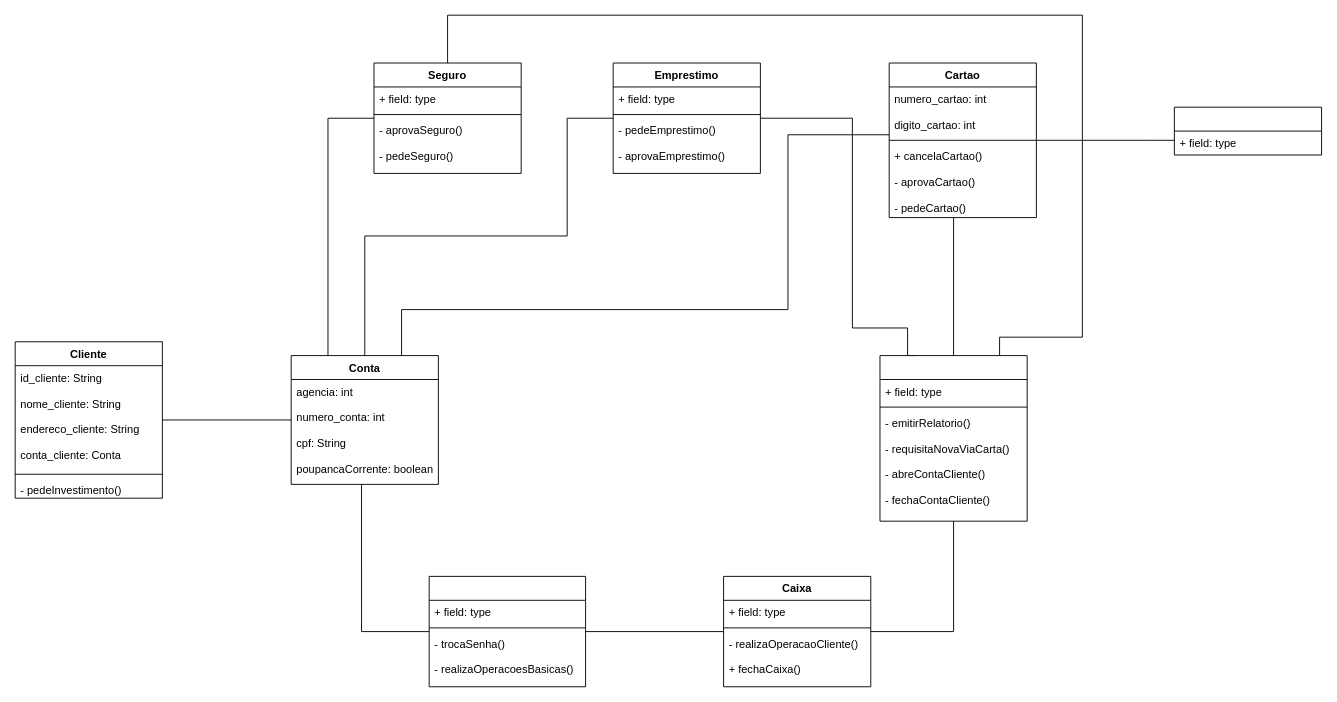
This 1337x702 diagram has some shape labels left out. Here are the shapes that lost their labels. From the top down, the box of each, then its label:
(1173, 106, 1322, 155): URA
(879, 355, 1027, 521): Gerente
(428, 575, 586, 687): Login
